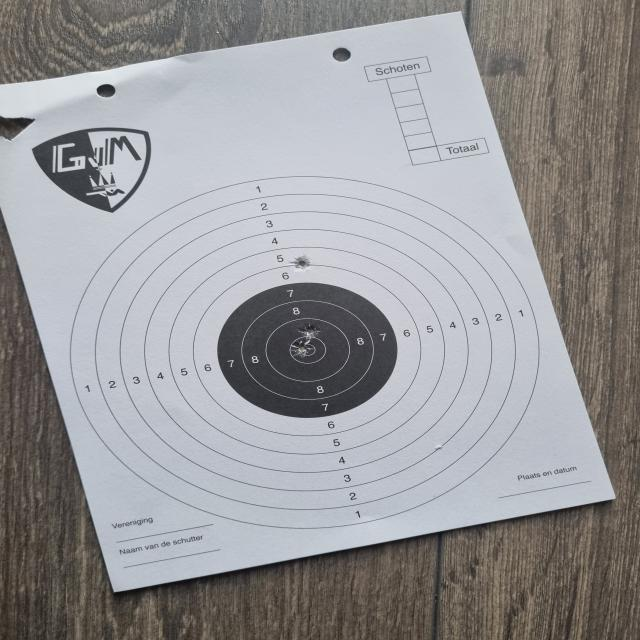2: (297, 322, 320, 340), (288, 340, 310, 358)
7: (290, 256, 313, 272)
Black Contour: (216, 282, 399, 418)
Target: (69, 176, 540, 530)
